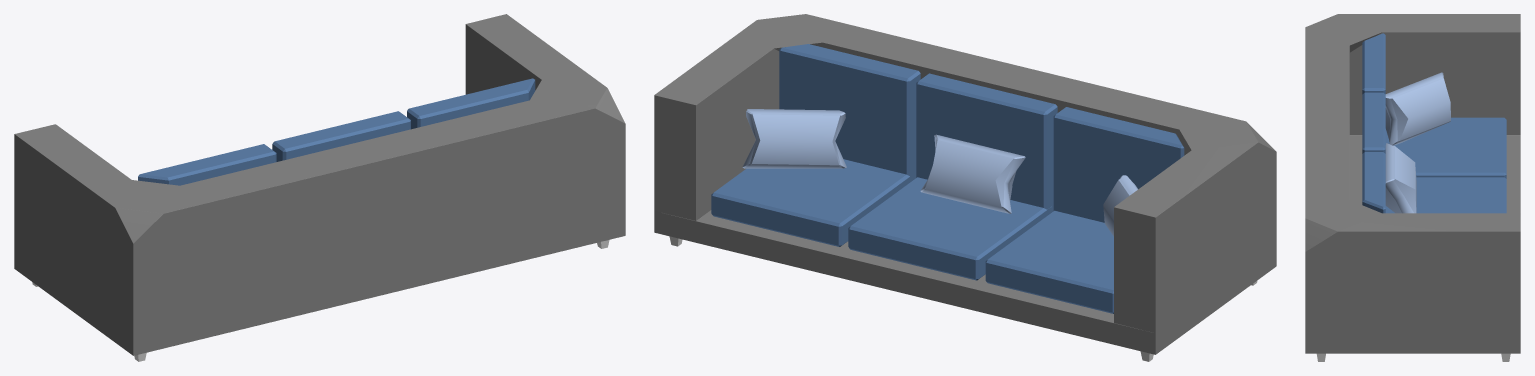
The model's file is Cowch.fbx.
3 views of the same model, side by side, from view 1: azimuth 30°, elevation 25°; view 2: azimuth 150°, elevation 25°; view 3: azimuth 270°, elevation 25° (orthographic). The views are drawn at different scales.
Parts seen in each view (by area): view 1: pCube169, pCube163, pCube162, pCube164; view 2: pCube169, pCube162, pCube160, pCube163, pCube159, pCube164, pCube161, pCube165, pCube167, pCube166; view 3: pCube169, pCube161, pCube160, pCube166, pCube167, pCube163, pCube162, pCube164.
Boxes of the visible parts, x1=… form: pCube169: x1=14, y1=14, x2=625, y2=355; pCube163: x1=272, y1=111, x2=410, y2=161; pCube162: x1=407, y1=78, x2=535, y2=129; pCube164: x1=138, y1=144, x2=276, y2=185; pCube169: x1=654, y1=14, x2=1276, y2=354; pCube162: x1=779, y1=44, x2=920, y2=178; pCube160: x1=848, y1=177, x2=1051, y2=280; pCube163: x1=916, y1=73, x2=1057, y2=211; pCube159: x1=711, y1=159, x2=914, y2=246; pCube164: x1=1053, y1=107, x2=1184, y2=222; pCube161: x1=985, y1=210, x2=1113, y2=313; pCube165: x1=742, y1=109, x2=846, y2=168; pCube167: x1=920, y1=134, x2=1025, y2=213; pCube166: x1=1103, y1=175, x2=1137, y2=236; pCube169: x1=1305, y1=14, x2=1520, y2=353; pCube161: x1=1385, y1=117, x2=1506, y2=178; pCube160: x1=1385, y1=177, x2=1506, y2=213; pCube166: x1=1385, y1=72, x2=1450, y2=145; pCube167: x1=1385, y1=143, x2=1416, y2=213; pCube163: x1=1362, y1=92, x2=1385, y2=153; pCube162: x1=1362, y1=152, x2=1385, y2=213; pCube164: x1=1362, y1=33, x2=1385, y2=94.
Size of the model in its own units: 4.76 by 1.41 by 1.99.
